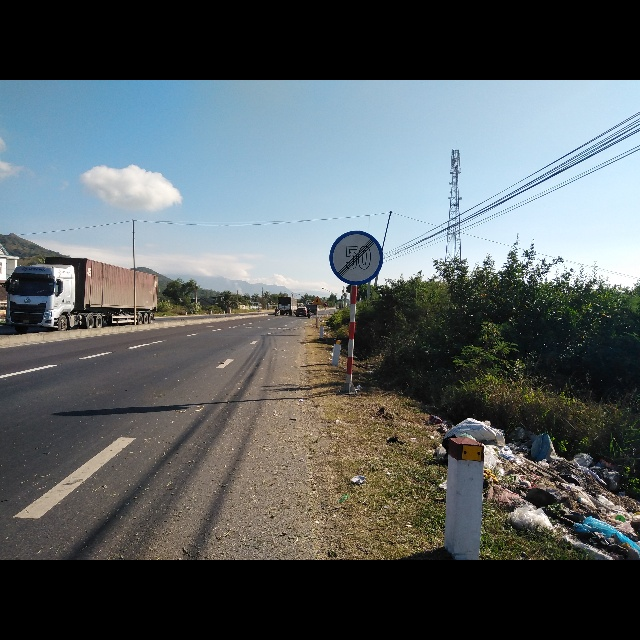Hết hạn chế tốc độ tối đa 50km/h: (327, 228, 384, 289)
